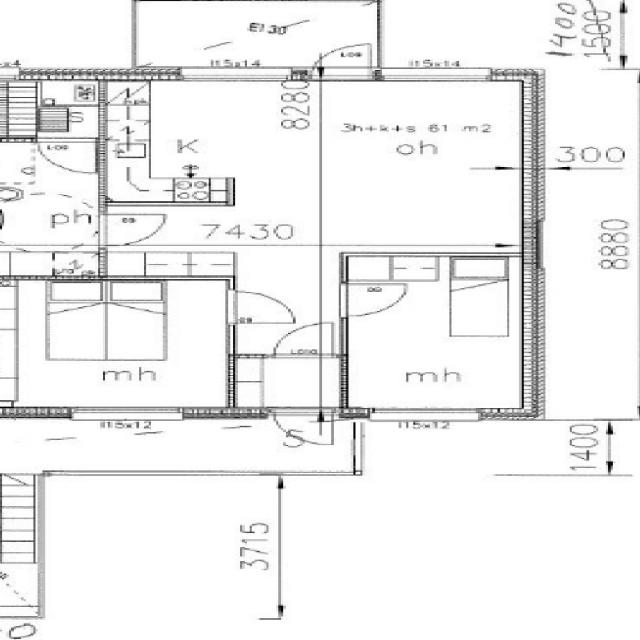door: (271, 408, 331, 452), (311, 37, 369, 81), (338, 284, 408, 316), (225, 292, 294, 323), (37, 138, 93, 173), (98, 215, 163, 245), (273, 324, 330, 358)
